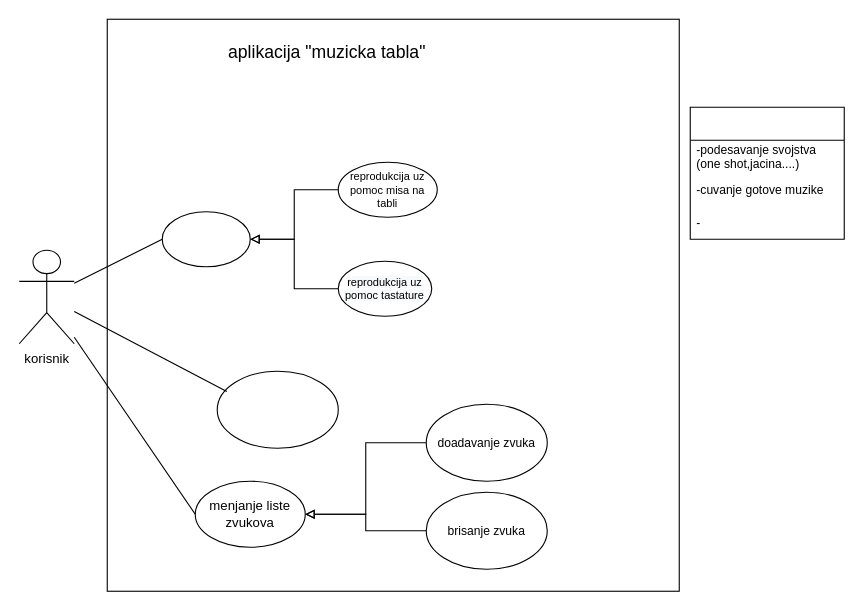
Image size: 864x611. Some labels were removed from this diagram. Each missing label, with the box of its shape:
dodatni slucajevi koje tek treba: (689, 106, 844, 239)
mapiranje zvukova na dugmice: (216, 370, 338, 448)
reprodukcija zvuka pomocu table: (161, 211, 250, 267)
